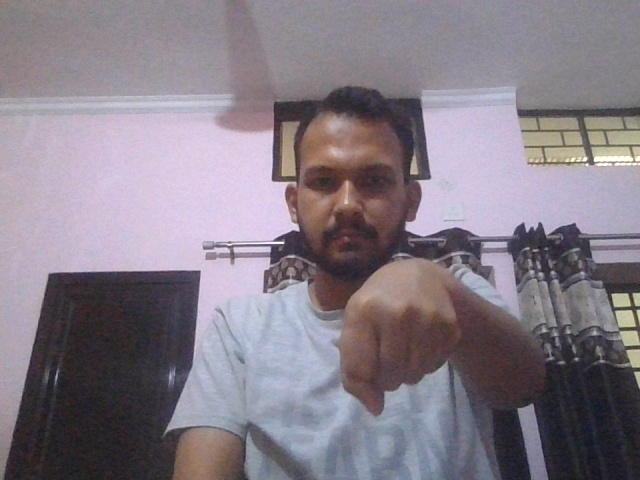yes: (341, 259, 462, 422)
